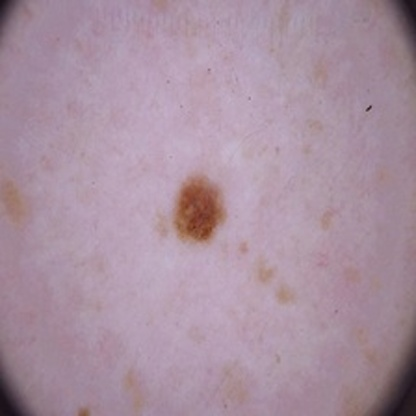benign: (166, 181, 227, 240)
